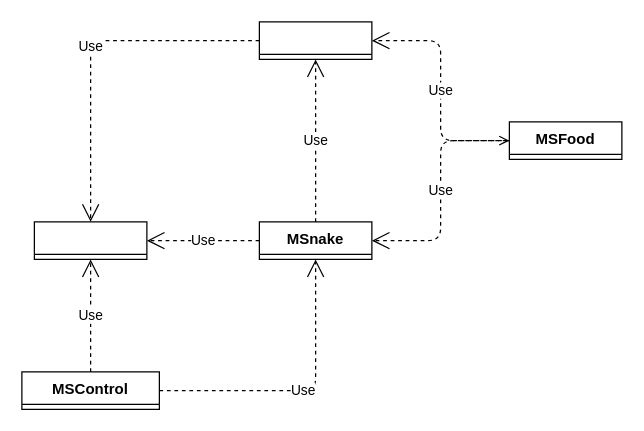
This 644x431 diagram has some shape labels left out. The centre of each missing label's shape, as x and y in pixels:
EV3Brick: point (90, 240)
MSGround: point (315, 40)
